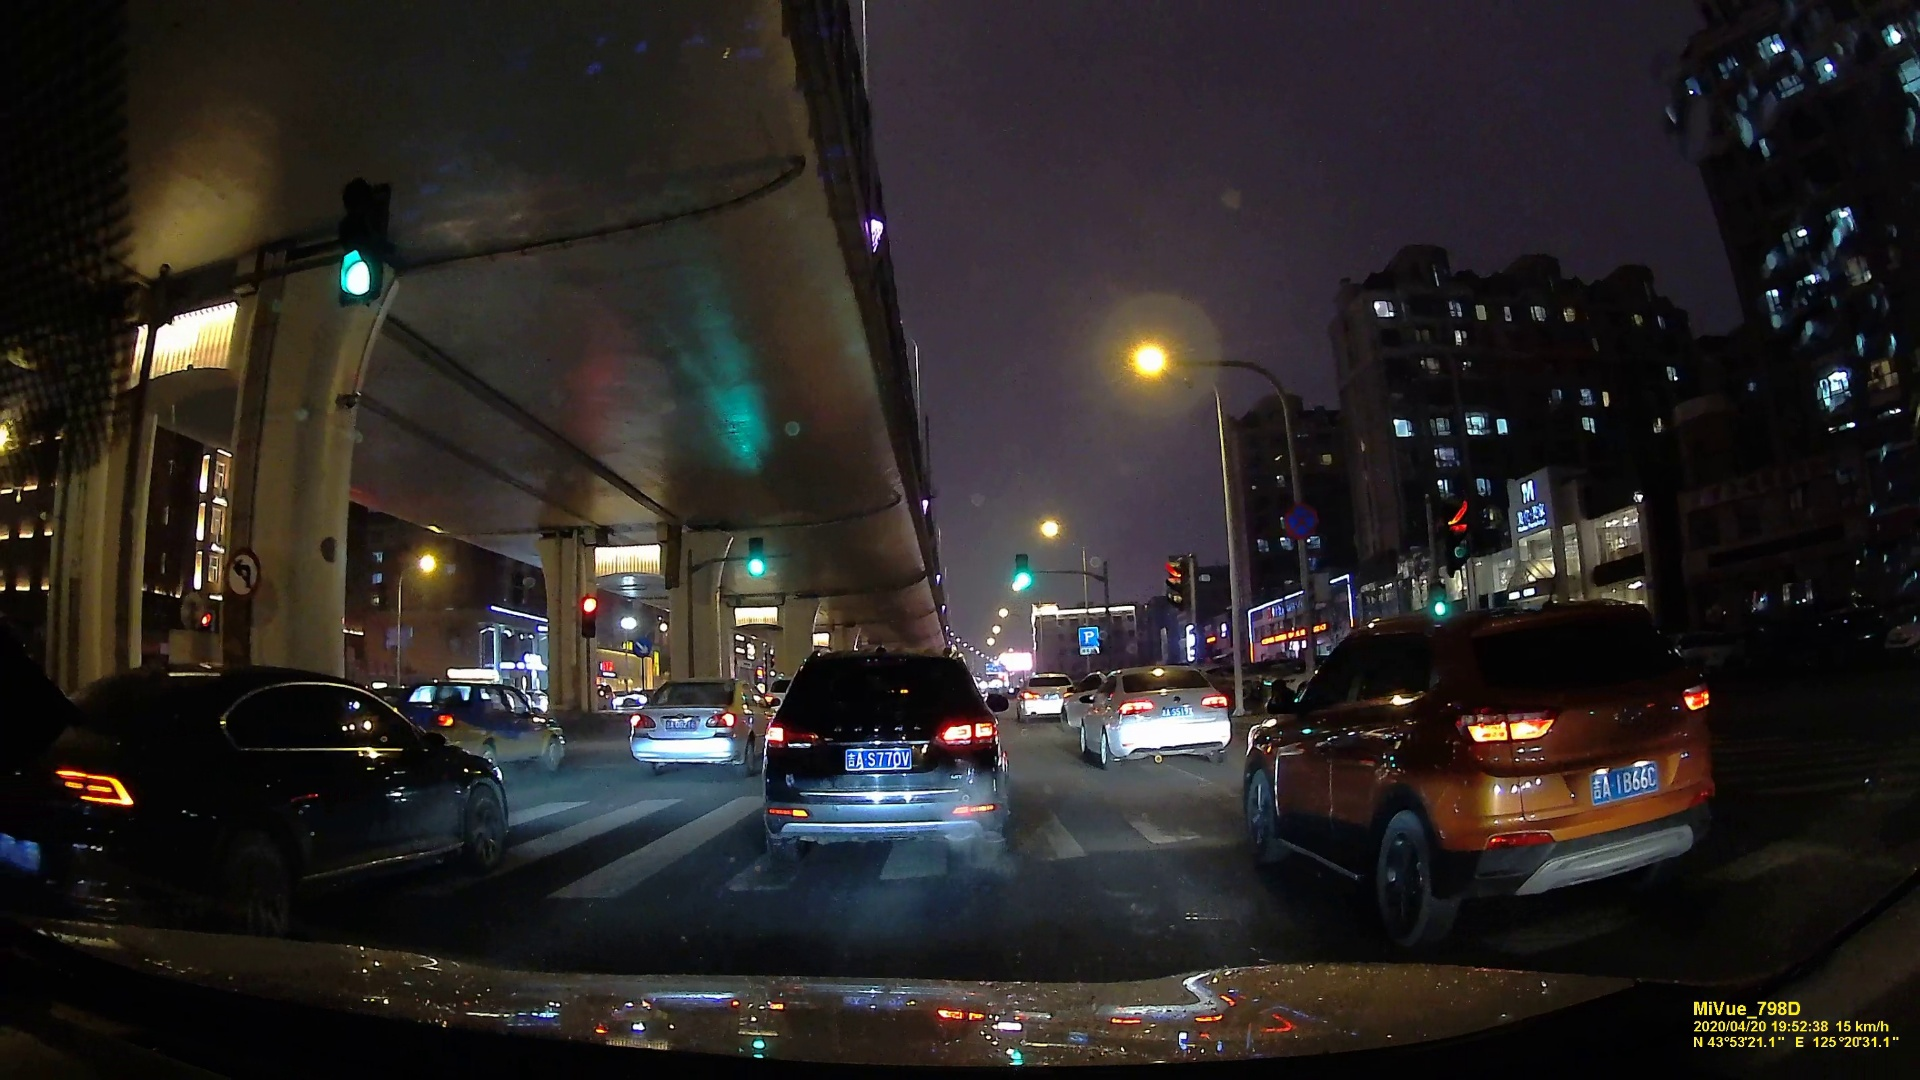traffic_sign: (331, 179, 397, 310), (216, 551, 266, 607), (1433, 500, 1470, 564), (1158, 554, 1193, 612), (1288, 501, 1324, 537), (748, 531, 766, 580), (1013, 553, 1035, 589), (578, 593, 596, 636), (1079, 626, 1105, 655)
vehicle: (1258, 588, 1720, 955), (3, 669, 505, 914), (752, 649, 1017, 876), (1072, 659, 1232, 764), (392, 675, 560, 771), (626, 675, 757, 775), (1019, 679, 1072, 720)
